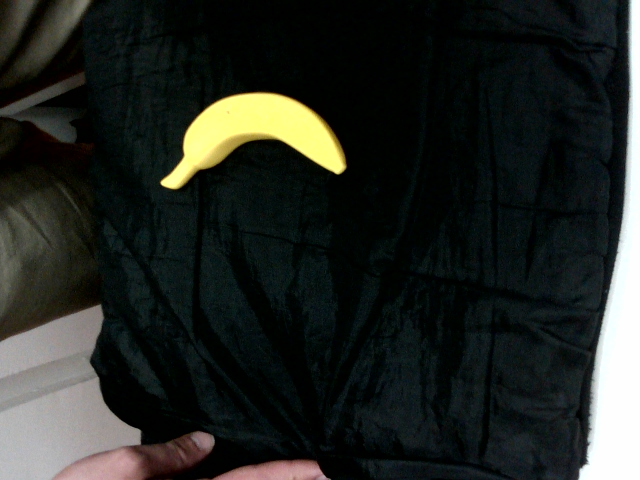banana: (153, 84, 346, 190)
